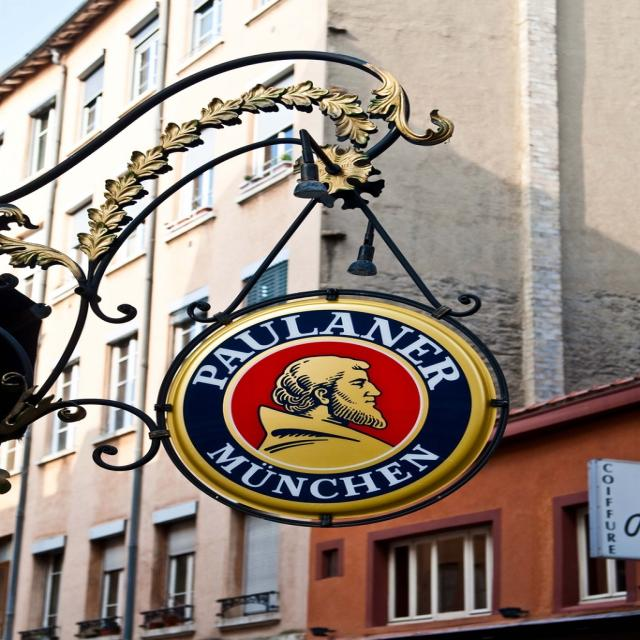paulaner: (169, 300, 494, 518)
